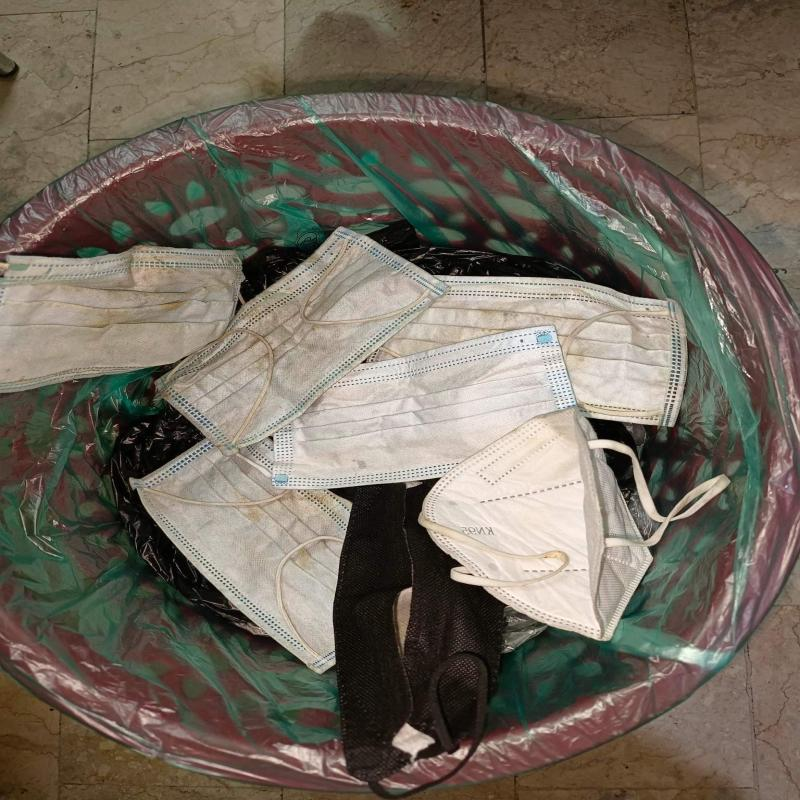facemask: (418, 408, 732, 643), (153, 227, 448, 449), (331, 477, 505, 788), (129, 437, 352, 675), (269, 325, 578, 491), (360, 275, 689, 427), (0, 246, 246, 394)
